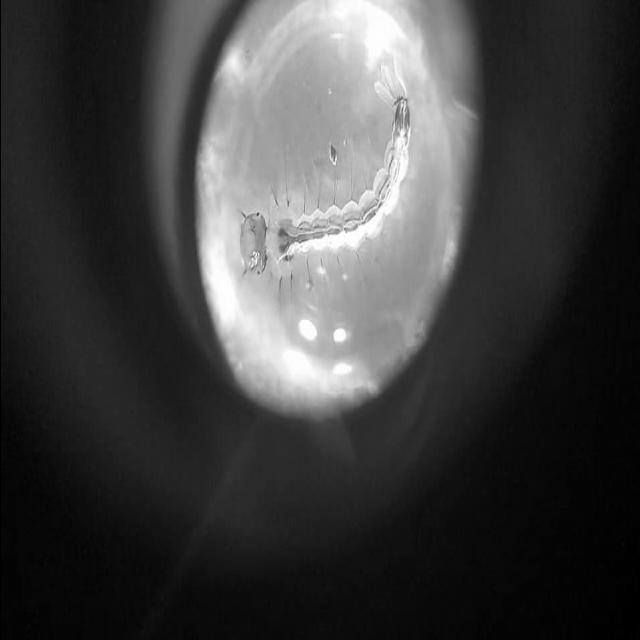larvas: (238, 95, 405, 270)
